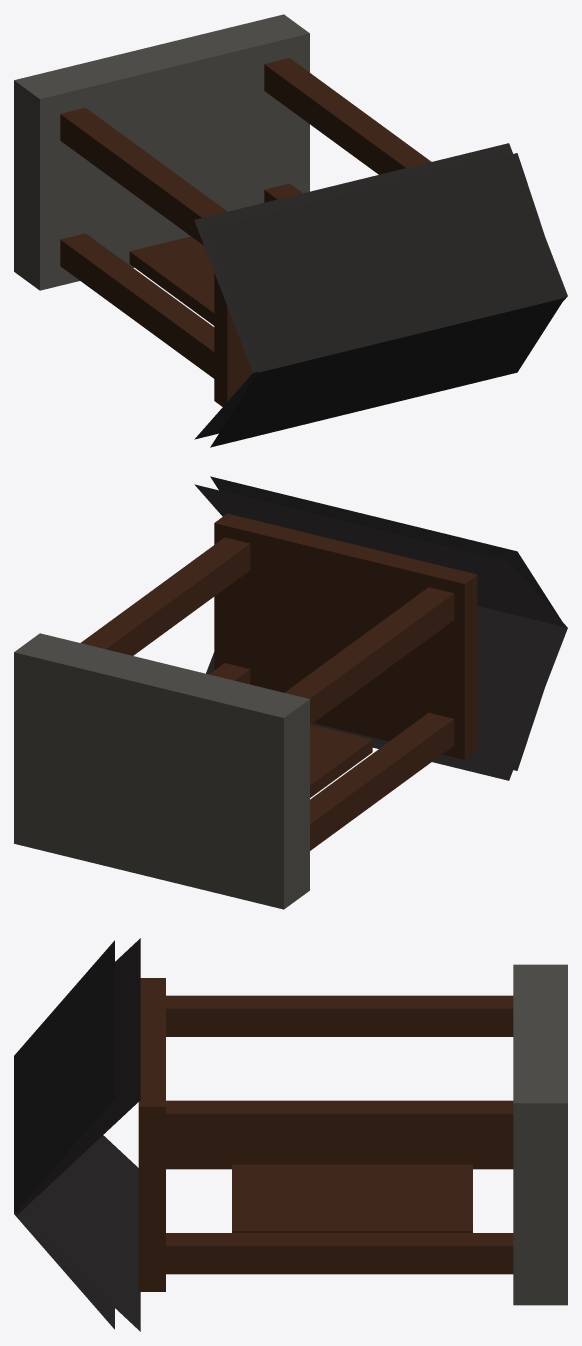
The model's file is Shrine_LOD1.obj.
The picture shows the model from 3 angles, top to bottom: view 1: azimuth 30°, elevation 25°; view 2: azimuth 150°, elevation 25°; view 3: azimuth 270°, elevation 25°; orthographic projection. The views are drawn at different scales.
Bounding box in the file's own units: 2.1 × 1.4 × 3.03.
